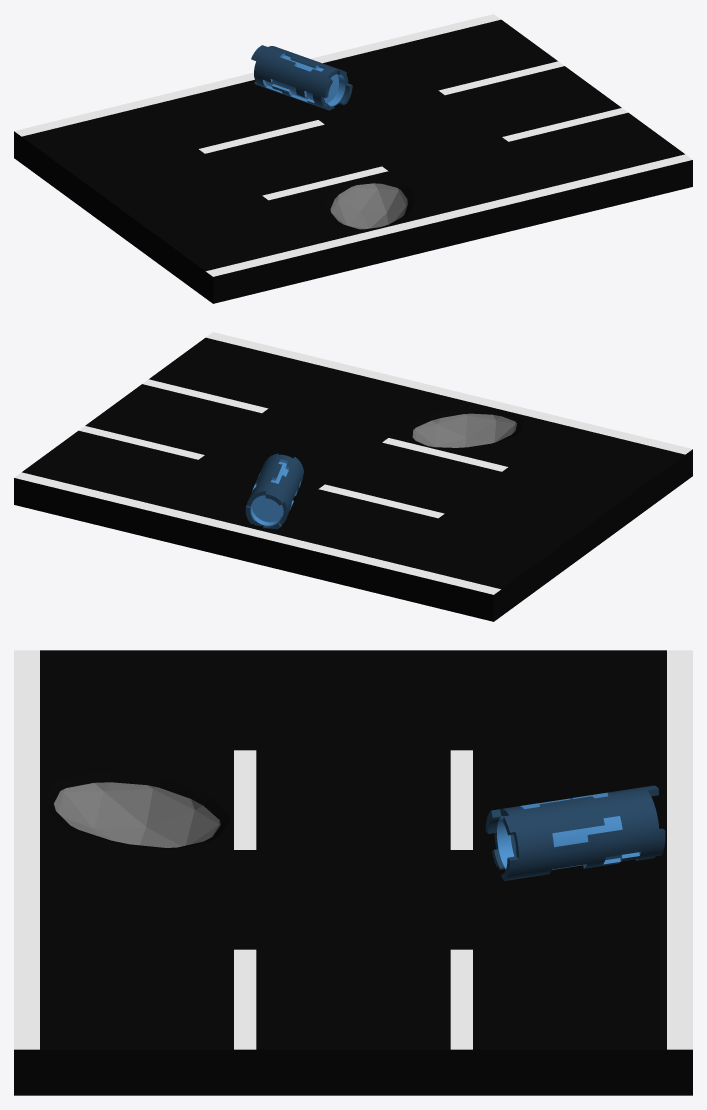
File: Route Troue V1 Tronc V3.fbx
The picture shows the model from 3 angles, top to bottom: view 1: azimuth 30°, elevation 25°; view 2: azimuth 150°, elevation 25°; view 3: azimuth 270°, elevation 25°; orthographic projection. The views are drawn at different scales.
Visible parts, largest first — view 1: Route Troue V1 Tronc V3; view 2: Route Troue V1 Tronc V3; view 3: Route Troue V1 Tronc V3.
Boxes of the visible parts, x1,y1,x2,y2 form: Route Troue V1 Tronc V3: (14, 14, 692, 303); Route Troue V1 Tronc V3: (14, 332, 692, 621); Route Troue V1 Tronc V3: (14, 650, 692, 1095).
Bounding box in the file's own units: 501 × 62.07 × 360.
